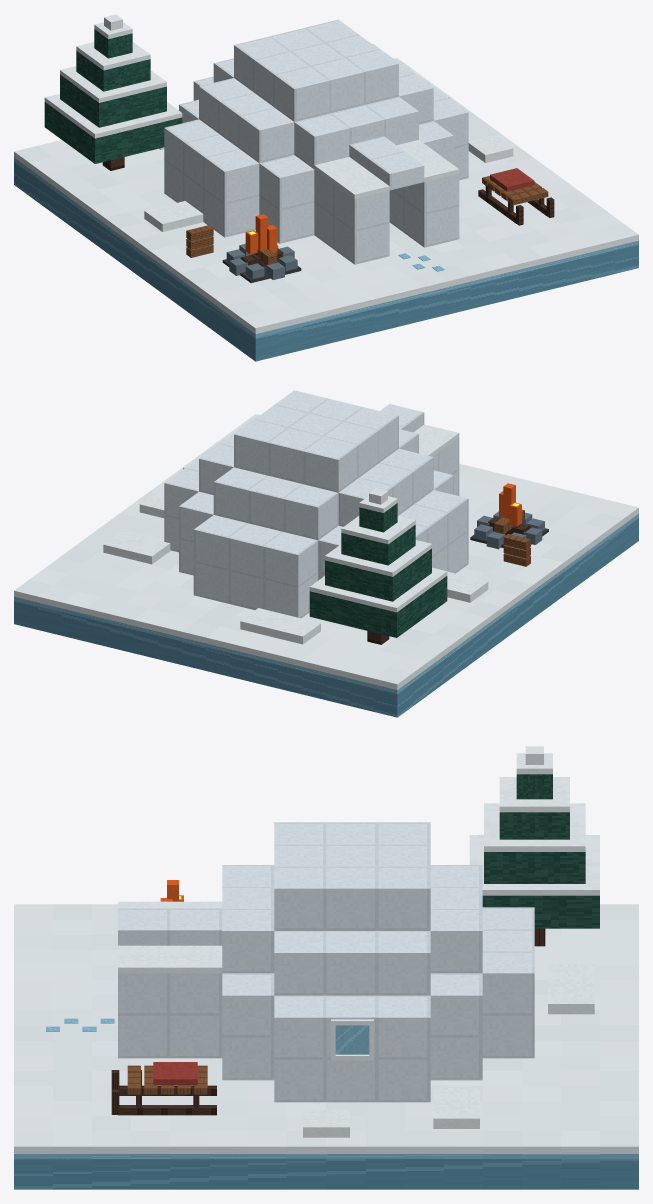
File: iglu_nieve_minecraft_low_poly (1).glb
The picture shows the model from 3 angles, top to bottom: view 1: azimuth 30°, elevation 25°; view 2: azimuth 150°, elevation 25°; view 3: azimuth 270°, elevation 25°; orthographic projection. The views are drawn at different scales.
Parts seen in each view (by area): view 1: Terreno_nevado, Iglu_cupula, Abeto, Entrada_tunel, Fogata, Trineo, Nieve_acumulada, Lena; view 2: Terreno_nevado, Iglu_cupula, Abeto, Nieve_acumulada, Fogata, Entrada_tunel, Lena; view 3: Terreno_nevado, Iglu_cupula, Abeto, Entrada_tunel, Nieve_acumulada, Trineo, Ventana_hielo.
Boxes of the visible parts, x1=… form: Terreno_nevado: x1=14, y1=58, x2=638, y2=361; Iglu_cupula: x1=164, y1=19, x2=468, y2=249; Abeto: x1=44, y1=14, x2=182, y2=170; Entrada_tunel: x1=314, y1=136, x2=459, y2=264; Fogata: x1=222, y1=214, x2=301, y2=282; Trineo: x1=478, y1=168, x2=554, y2=225; Nieve_acumulada: x1=144, y1=135, x2=513, y2=231; Lena: x1=186, y1=225, x2=213, y2=257; Terreno_nevado: x1=14, y1=414, x2=638, y2=717; Iglu_cupula: x1=164, y1=390, x2=468, y2=618; Abeto: x1=309, y1=488, x2=447, y2=644; Nieve_acumulada: x1=103, y1=491, x2=488, y2=644; Fogata: x1=470, y1=483, x2=548, y2=549; Entrada_tunel: x1=380, y1=404, x2=459, y2=495; Lena: x1=503, y1=534, x2=530, y2=566; Terreno_nevado: x1=14, y1=904, x2=638, y2=1189; Iglu_cupula: x1=170, y1=822, x2=534, y2=1102; Abeto: x1=469, y1=746, x2=599, y2=946; Entrada_tunel: x1=118, y1=901, x2=222, y2=1058; Nieve_acumulada: x1=303, y1=964, x2=594, y2=1137; Trineo: x1=111, y1=1062, x2=216, y2=1115; Ventana_hielo: x1=331, y1=1019, x2=373, y2=1060.
Size of the model in its own units: 11 by 4.97 by 12.
12 materials, 12 textured.
